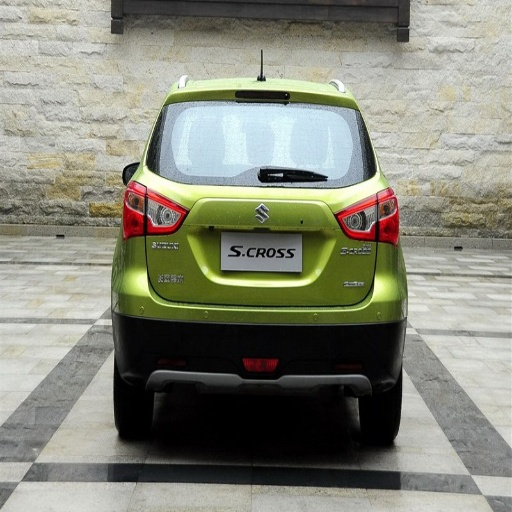back_bumper: (111, 239, 401, 393)
tailgate: (158, 249, 312, 302)
trunk: (142, 180, 374, 303)
